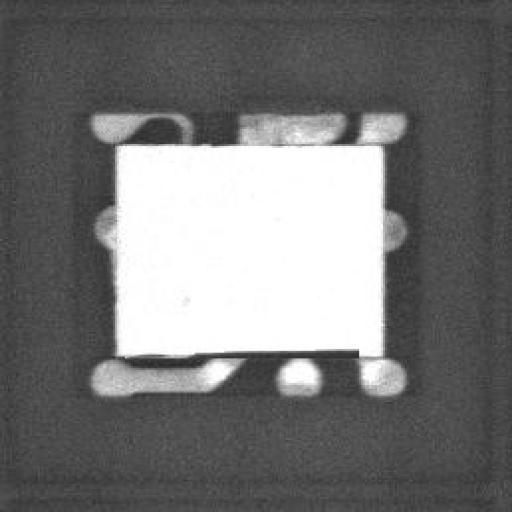DIE_BROKEN: (193, 342, 361, 358)
